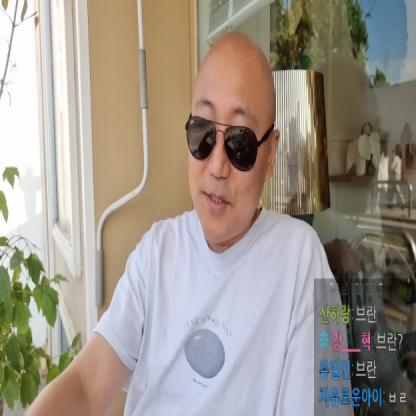streamer: (19, 31, 355, 416)
